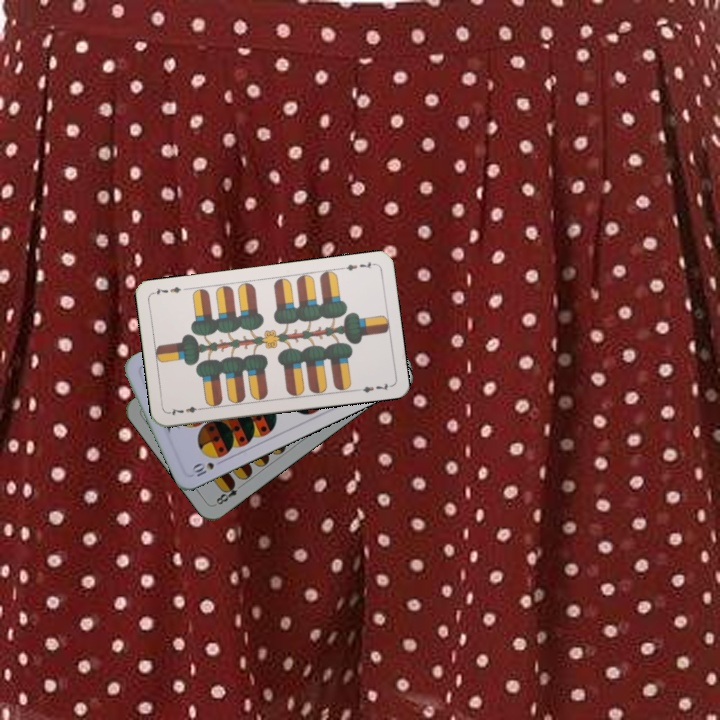E7: (337, 257, 377, 273), (165, 402, 206, 417)
E8: (211, 478, 246, 508)
S10: (187, 451, 227, 479)
